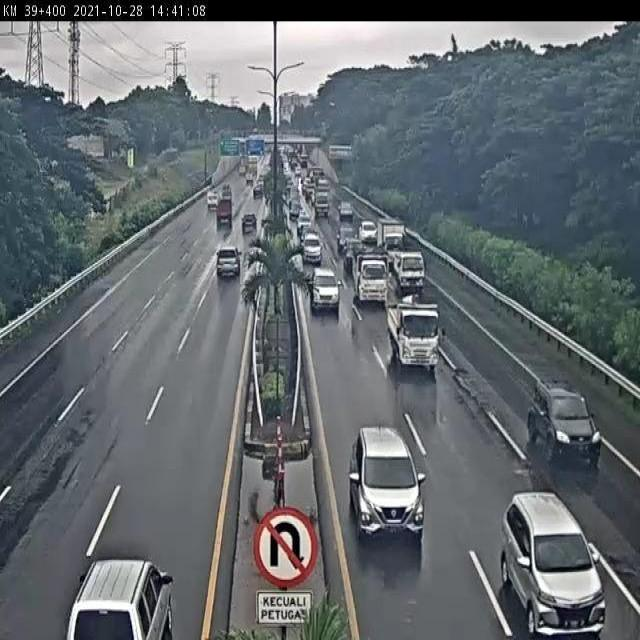car: (499, 492, 608, 640), (347, 425, 425, 539), (524, 376, 604, 465), (308, 266, 341, 314)
mid truck: (214, 244, 242, 283)
truck-m-: (386, 301, 440, 371), (351, 250, 388, 306)
truck-s-: (393, 248, 425, 289)
